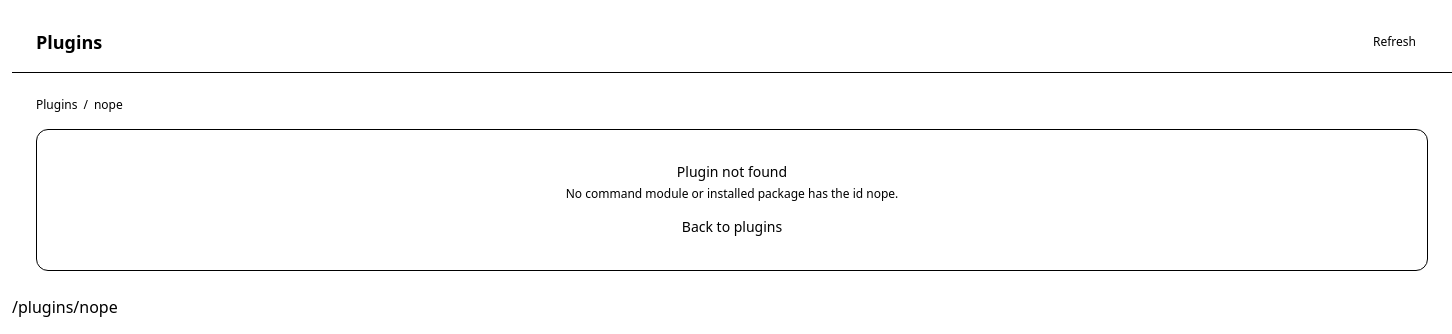
PluginDetailsPage loading, errors and not found › says "Plugin not found" for an unknown id, with a way back
Expected: the text "Plugin not found" is shown, x1=677 y1=162 x2=787 y2=181
Expected: the text "No command module or installed package has the id nope." is shown, x1=566 y1=185 x2=898 y2=202
Click the link "Back to plugins" at (732, 226), box x1=682 y1=217 x2=782 y2=236
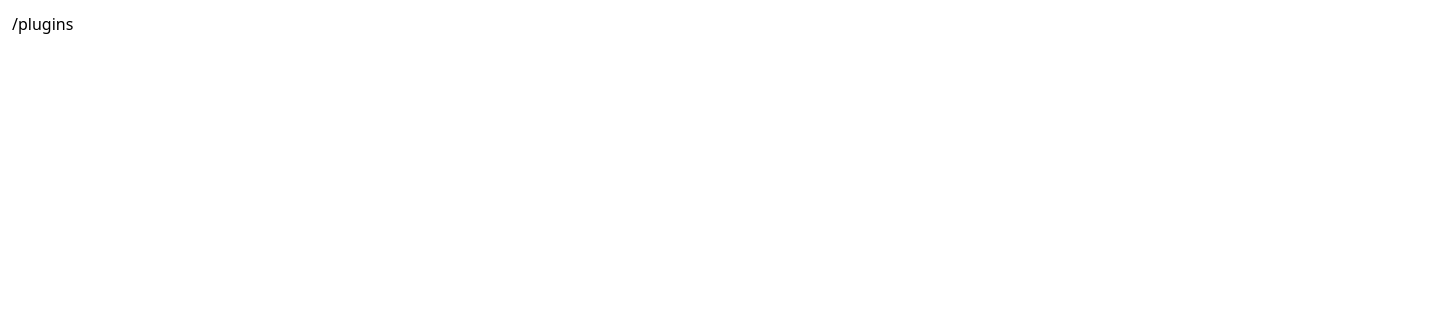
Now the text with test id "location" reads "/plugins", box x1=12 y1=13 x2=73 y2=35
